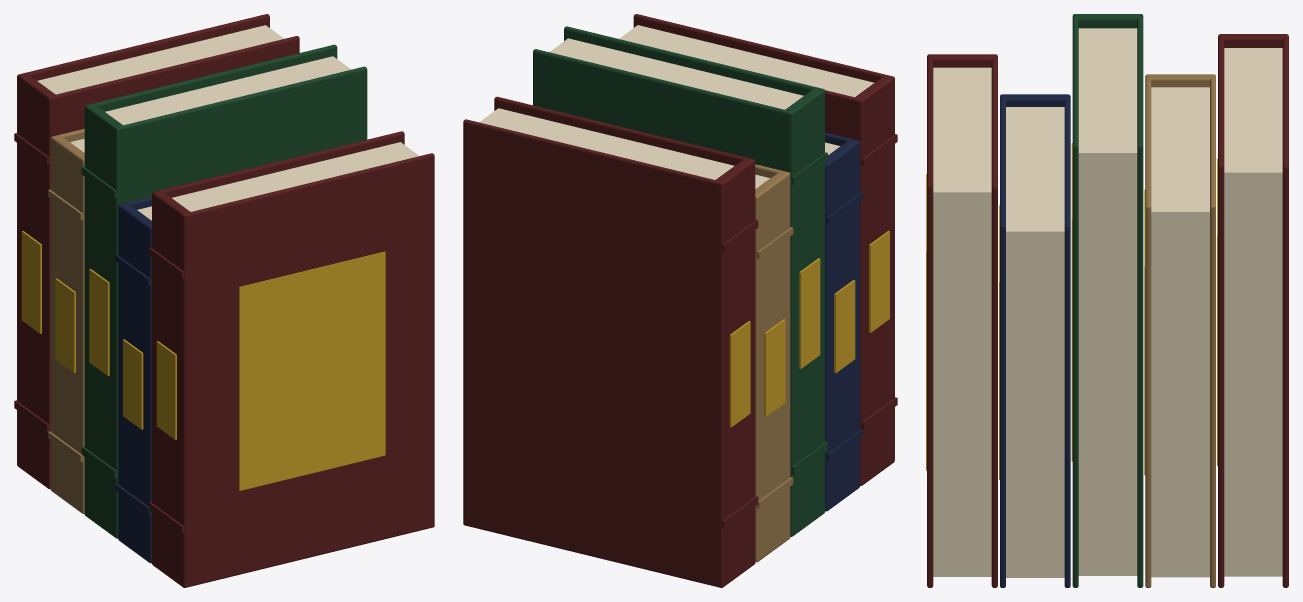
File: BookRow.fbx
The picture shows the model from 3 angles, left to right: view 1: azimuth 30°, elevation 25°; view 2: azimuth 150°, elevation 25°; view 3: azimuth 270°, elevation 25°; orthographic projection. The views are drawn at different scales.
Parts seen in each view (by area): view 1: BookRow; view 2: BookRow; view 3: BookRow.
Part boxes in pixels (x1,y1,x2,y2): BookRow: (14,14,434,587); BookRow: (463,14,897,587); BookRow: (926,14,1288,587).
Bounding box in the file's own units: 15.62 × 24.2 × 17.95.
